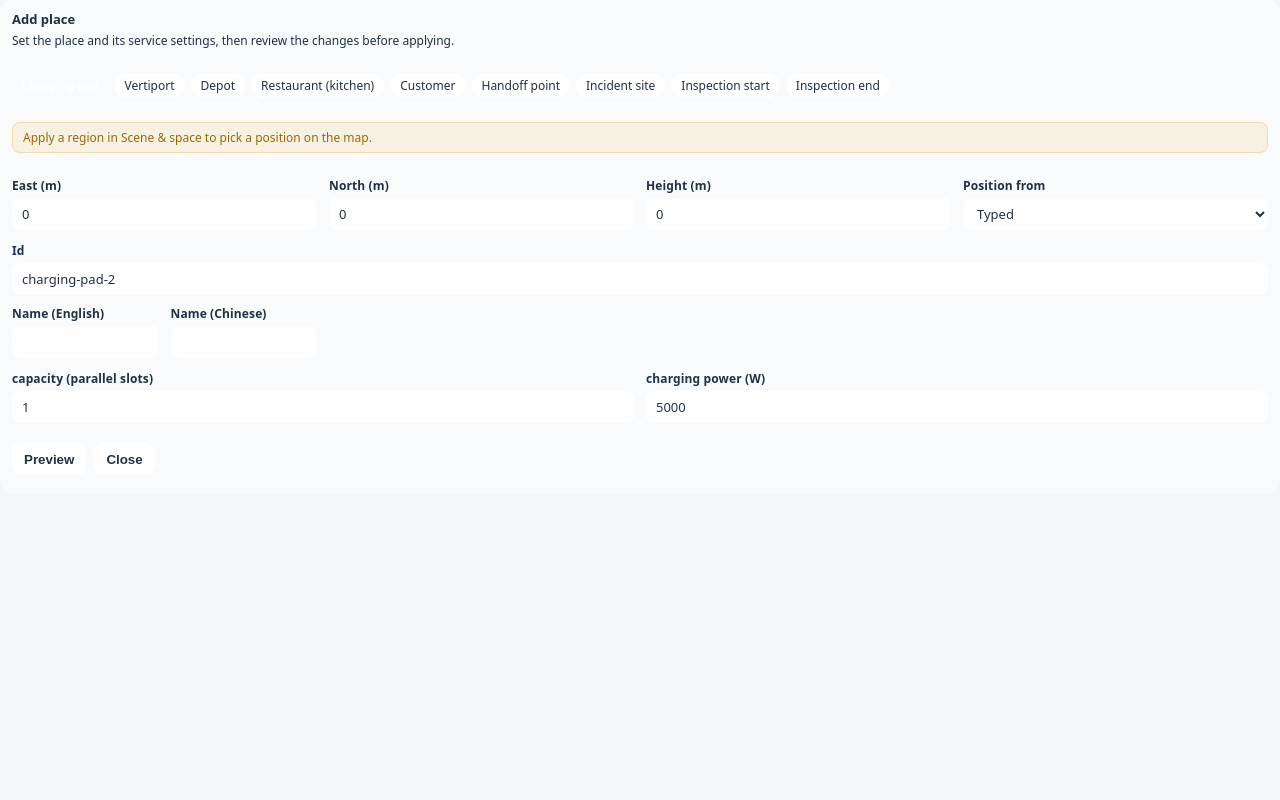
Scenario: rejects nonpositive preparation and charging power visibly without sending defaults
Replace the text in the field labelled "charging power (W)" with "0" at (957, 407), box [646,391,1268,423]
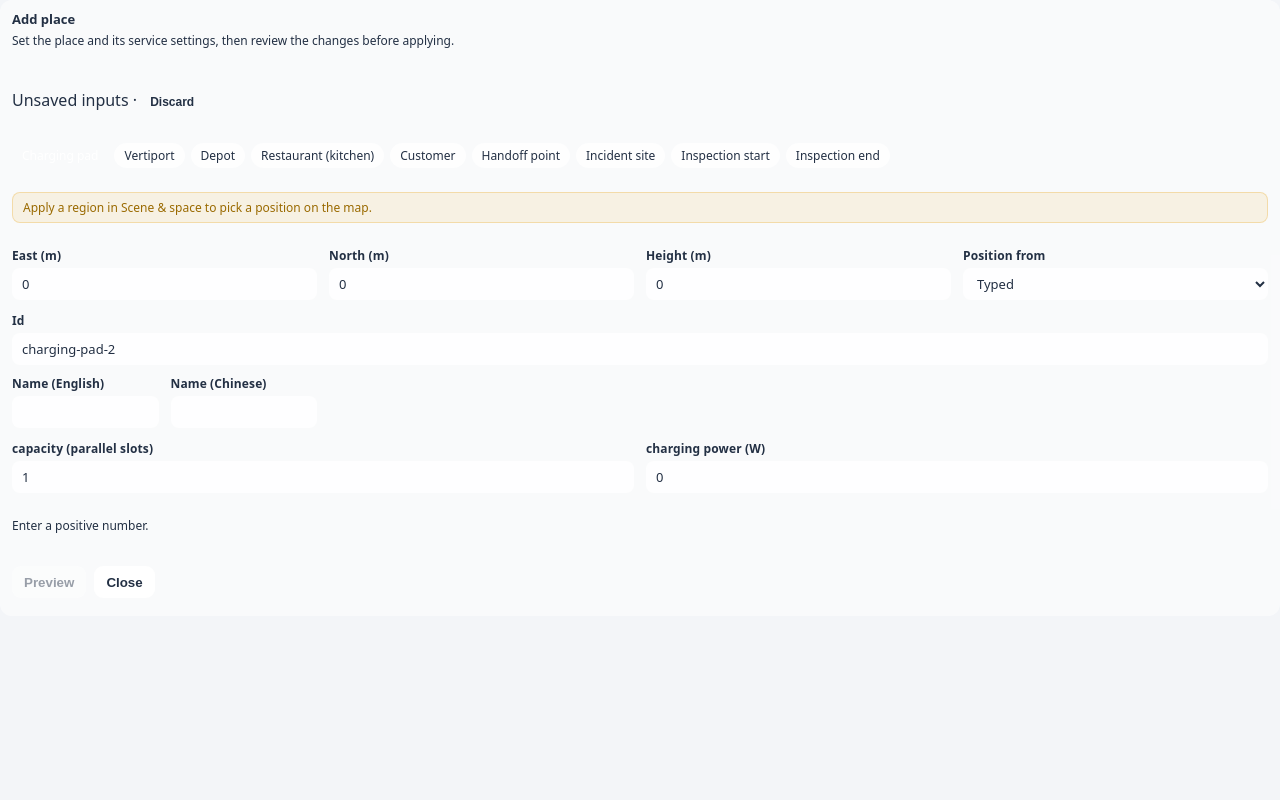
Expected: the message shows "Enter a positive number", [12,517,148,534]
Expected: the button "Preview" is disabled, [12,566,86,598]
Click the button "Restaurant (kitchen)" at (318, 156), box [251,143,384,168]
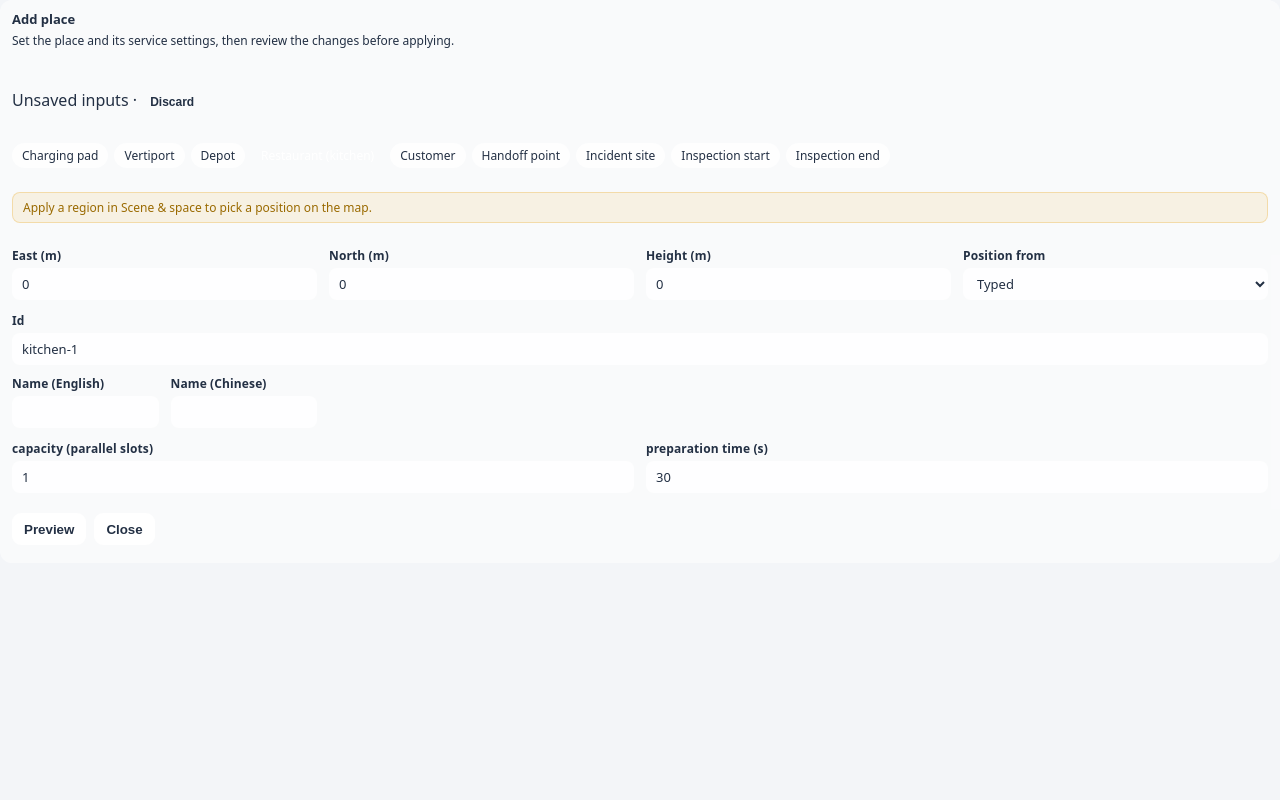
Replace the text in the field labelled "preparation time (s)" with "-1" at (957, 477), box [646,461,1268,493]
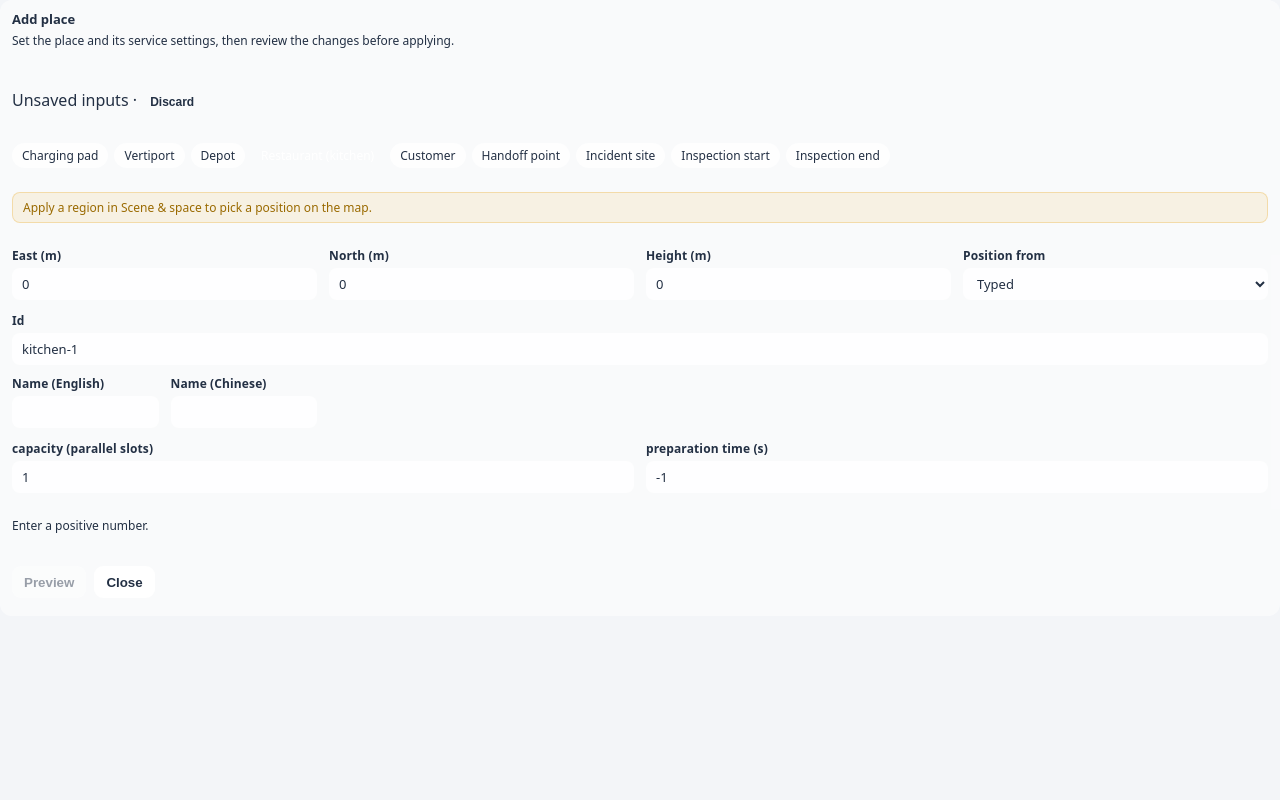
Expected: the button "Preview" is disabled, [12,566,86,598]
